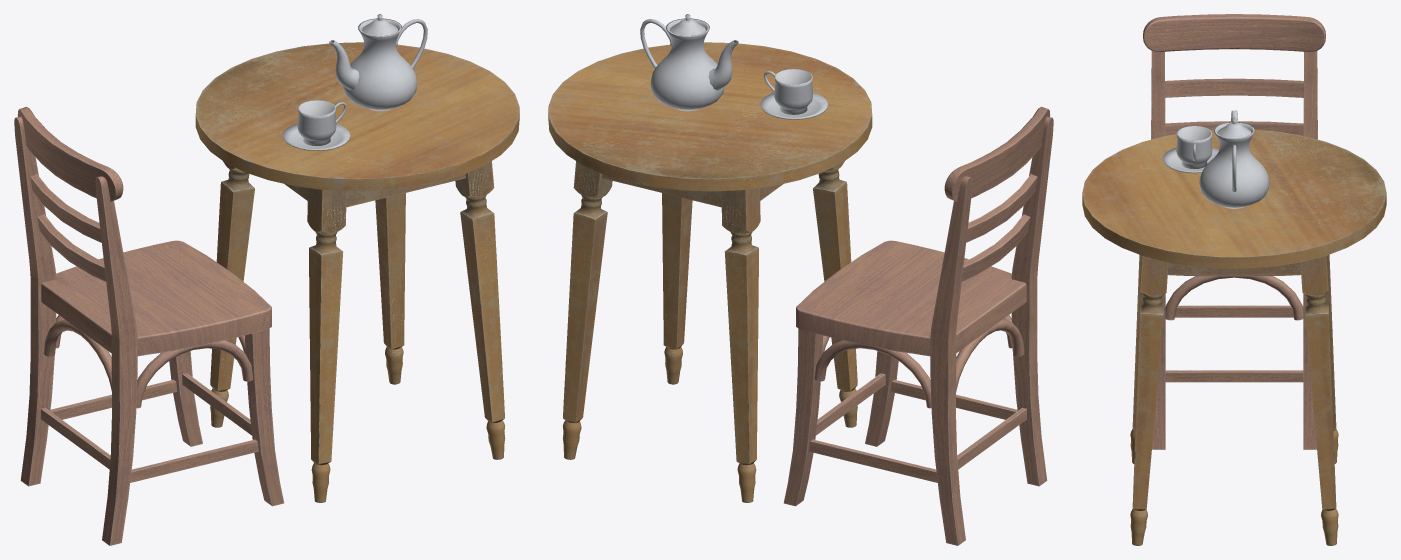
Rendered from kitchen_table_set.glb.
The picture shows the model from 3 angles, left to right: view 1: azimuth 30°, elevation 25°; view 2: azimuth 150°, elevation 25°; view 3: azimuth 270°, elevation 25°; orthographic projection. The views are drawn at different scales.
Visible parts, largest first — view 1: Table, Chair, Teapot, Cup, Plate; view 2: Table, Chair, Teapot, Cup, Plate; view 3: Table, Chair, Teapot, Cup, Plate.
Boxes of the visible parts, box(x1,y1,x2,y2) form: Table: box(195, 42, 519, 502); Chair: box(14, 106, 284, 545); Teapot: box(329, 14, 427, 111); Cup: box(297, 100, 346, 146); Plate: box(282, 123, 350, 150); Table: box(548, 42, 872, 502); Chair: box(783, 106, 1053, 545); Teapot: box(640, 14, 738, 111); Cup: box(764, 69, 812, 114); Plate: box(760, 92, 827, 119); Table: box(1082, 129, 1386, 545); Chair: box(1143, 14, 1325, 449); Teapot: box(1199, 110, 1269, 208); Cup: box(1176, 125, 1212, 168); Plate: box(1162, 147, 1218, 173).
Size of the model in its own units: 1.09 by 0.982 by 0.6847.
2 materials, 2 textured.
